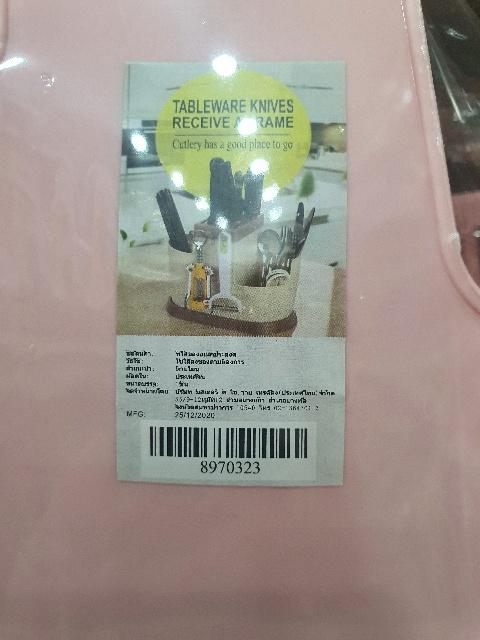Barcode: (142, 420, 314, 480)
